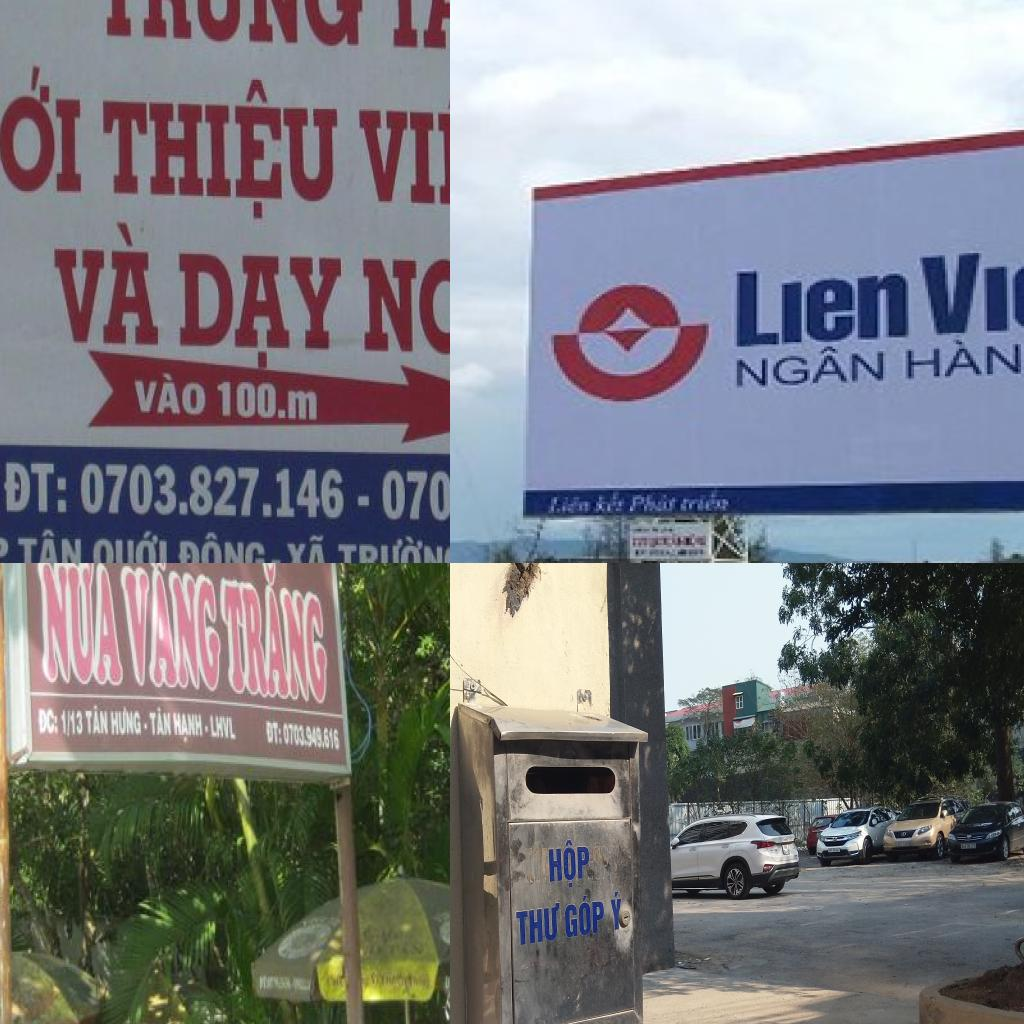text: (100, 74, 340, 224), (174, 247, 344, 372), (726, 253, 914, 351), (217, 563, 334, 709), (45, 218, 166, 346), (110, 563, 221, 697), (353, 78, 450, 226), (93, 0, 365, 49), (24, 563, 124, 687), (361, 222, 450, 360), (0, 66, 83, 197), (916, 239, 1024, 337), (731, 344, 892, 392), (902, 335, 1024, 383), (216, 377, 320, 425), (0, 460, 74, 518), (380, 467, 450, 527), (134, 370, 209, 418), (178, 532, 285, 563), (336, 535, 450, 563), (540, 839, 589, 891), (17, 528, 83, 563), (92, 534, 170, 563), (512, 900, 560, 947), (562, 888, 606, 939), (283, 720, 342, 752), (680, 490, 740, 516), (285, 533, 333, 563), (546, 492, 599, 518), (627, 492, 681, 516), (173, 709, 205, 747), (108, 704, 142, 737), (604, 884, 626, 934), (590, 490, 632, 516), (82, 701, 109, 738), (147, 703, 173, 740), (209, 711, 238, 744), (59, 704, 85, 740), (35, 702, 60, 738), (264, 716, 284, 749)
